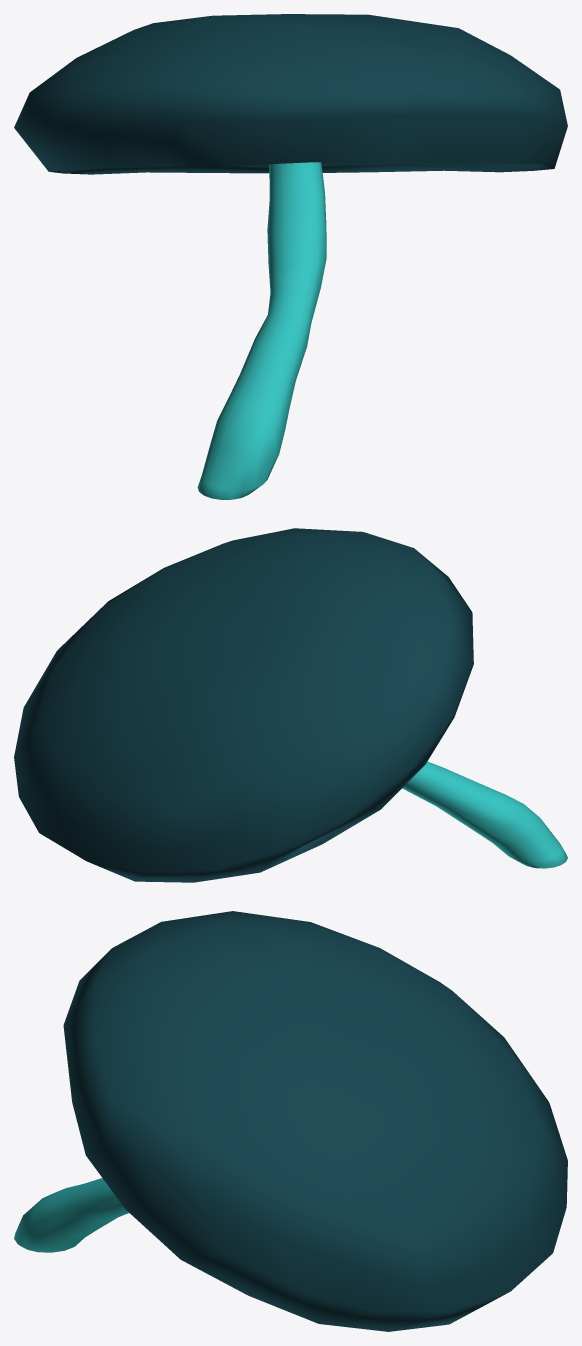
Rendered from mushroom02_001.fbx.
The picture shows the model from 3 angles, top to bottom: view 1: azimuth 30°, elevation 25°; view 2: azimuth 150°, elevation 25°; view 3: azimuth 270°, elevation 25°; orthographic projection. The views are drawn at different scales.
Parts seen in each view (by area): view 1: Cylinder.009; view 2: Cylinder.009; view 3: Cylinder.009.
Boxes of the visible parts, left/top/right/bottom form: Cylinder.009: left=14, top=14, right=567, bottom=499; Cylinder.009: left=14, top=528, right=567, bottom=882; Cylinder.009: left=14, top=911, right=567, bottom=1331.
Bounding box in the file's own units: 178 × 130 × 178.
